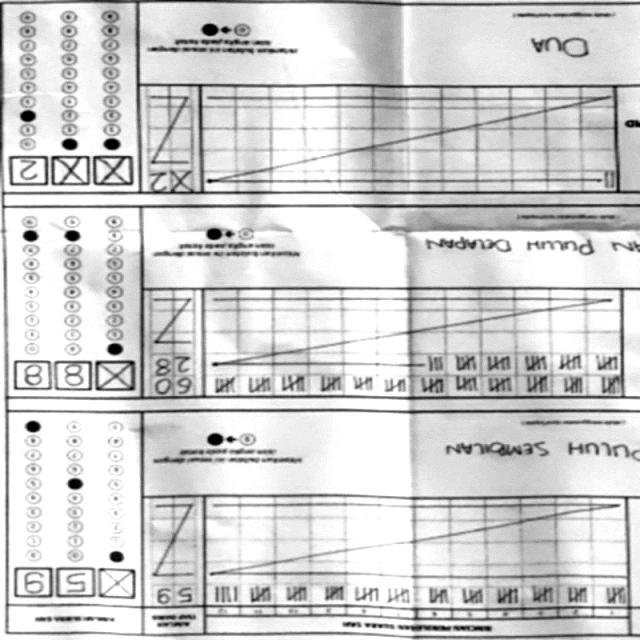Suara: (10, 154, 145, 194), (7, 566, 142, 606), (9, 358, 143, 398)
